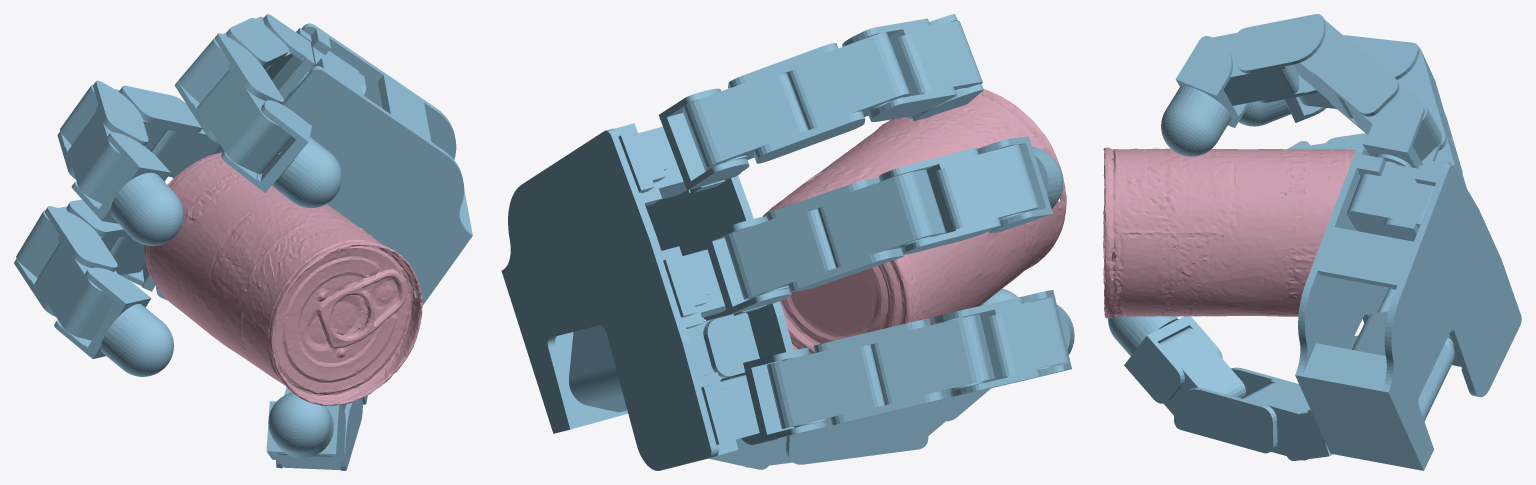
3 renders of one model, left to right at view 1: azimuth 30°, elevation 25°; view 2: azimuth 150°, elevation 25°; view 3: azimuth 270°, elevation 25°, orthographic. The views are drawn at different scales.
Parts seen in each view (by area): view 1: world, tomato_soup_can.stl; view 2: world, tomato_soup_can.stl; view 3: world, tomato_soup_can.stl.
Part boxes in pixels (box(x1,y1,x2,y2)): world: box(14, 14, 472, 470); tomato_soup_can.stl: box(144, 152, 422, 405); world: box(501, 14, 1074, 470); tomato_soup_can.stl: box(762, 89, 1066, 355); world: box(1108, 14, 1521, 470); tomato_soup_can.stl: box(1103, 147, 1355, 318).
Size of the model in its own units: 0.198 by 0.1708 by 0.1652.
